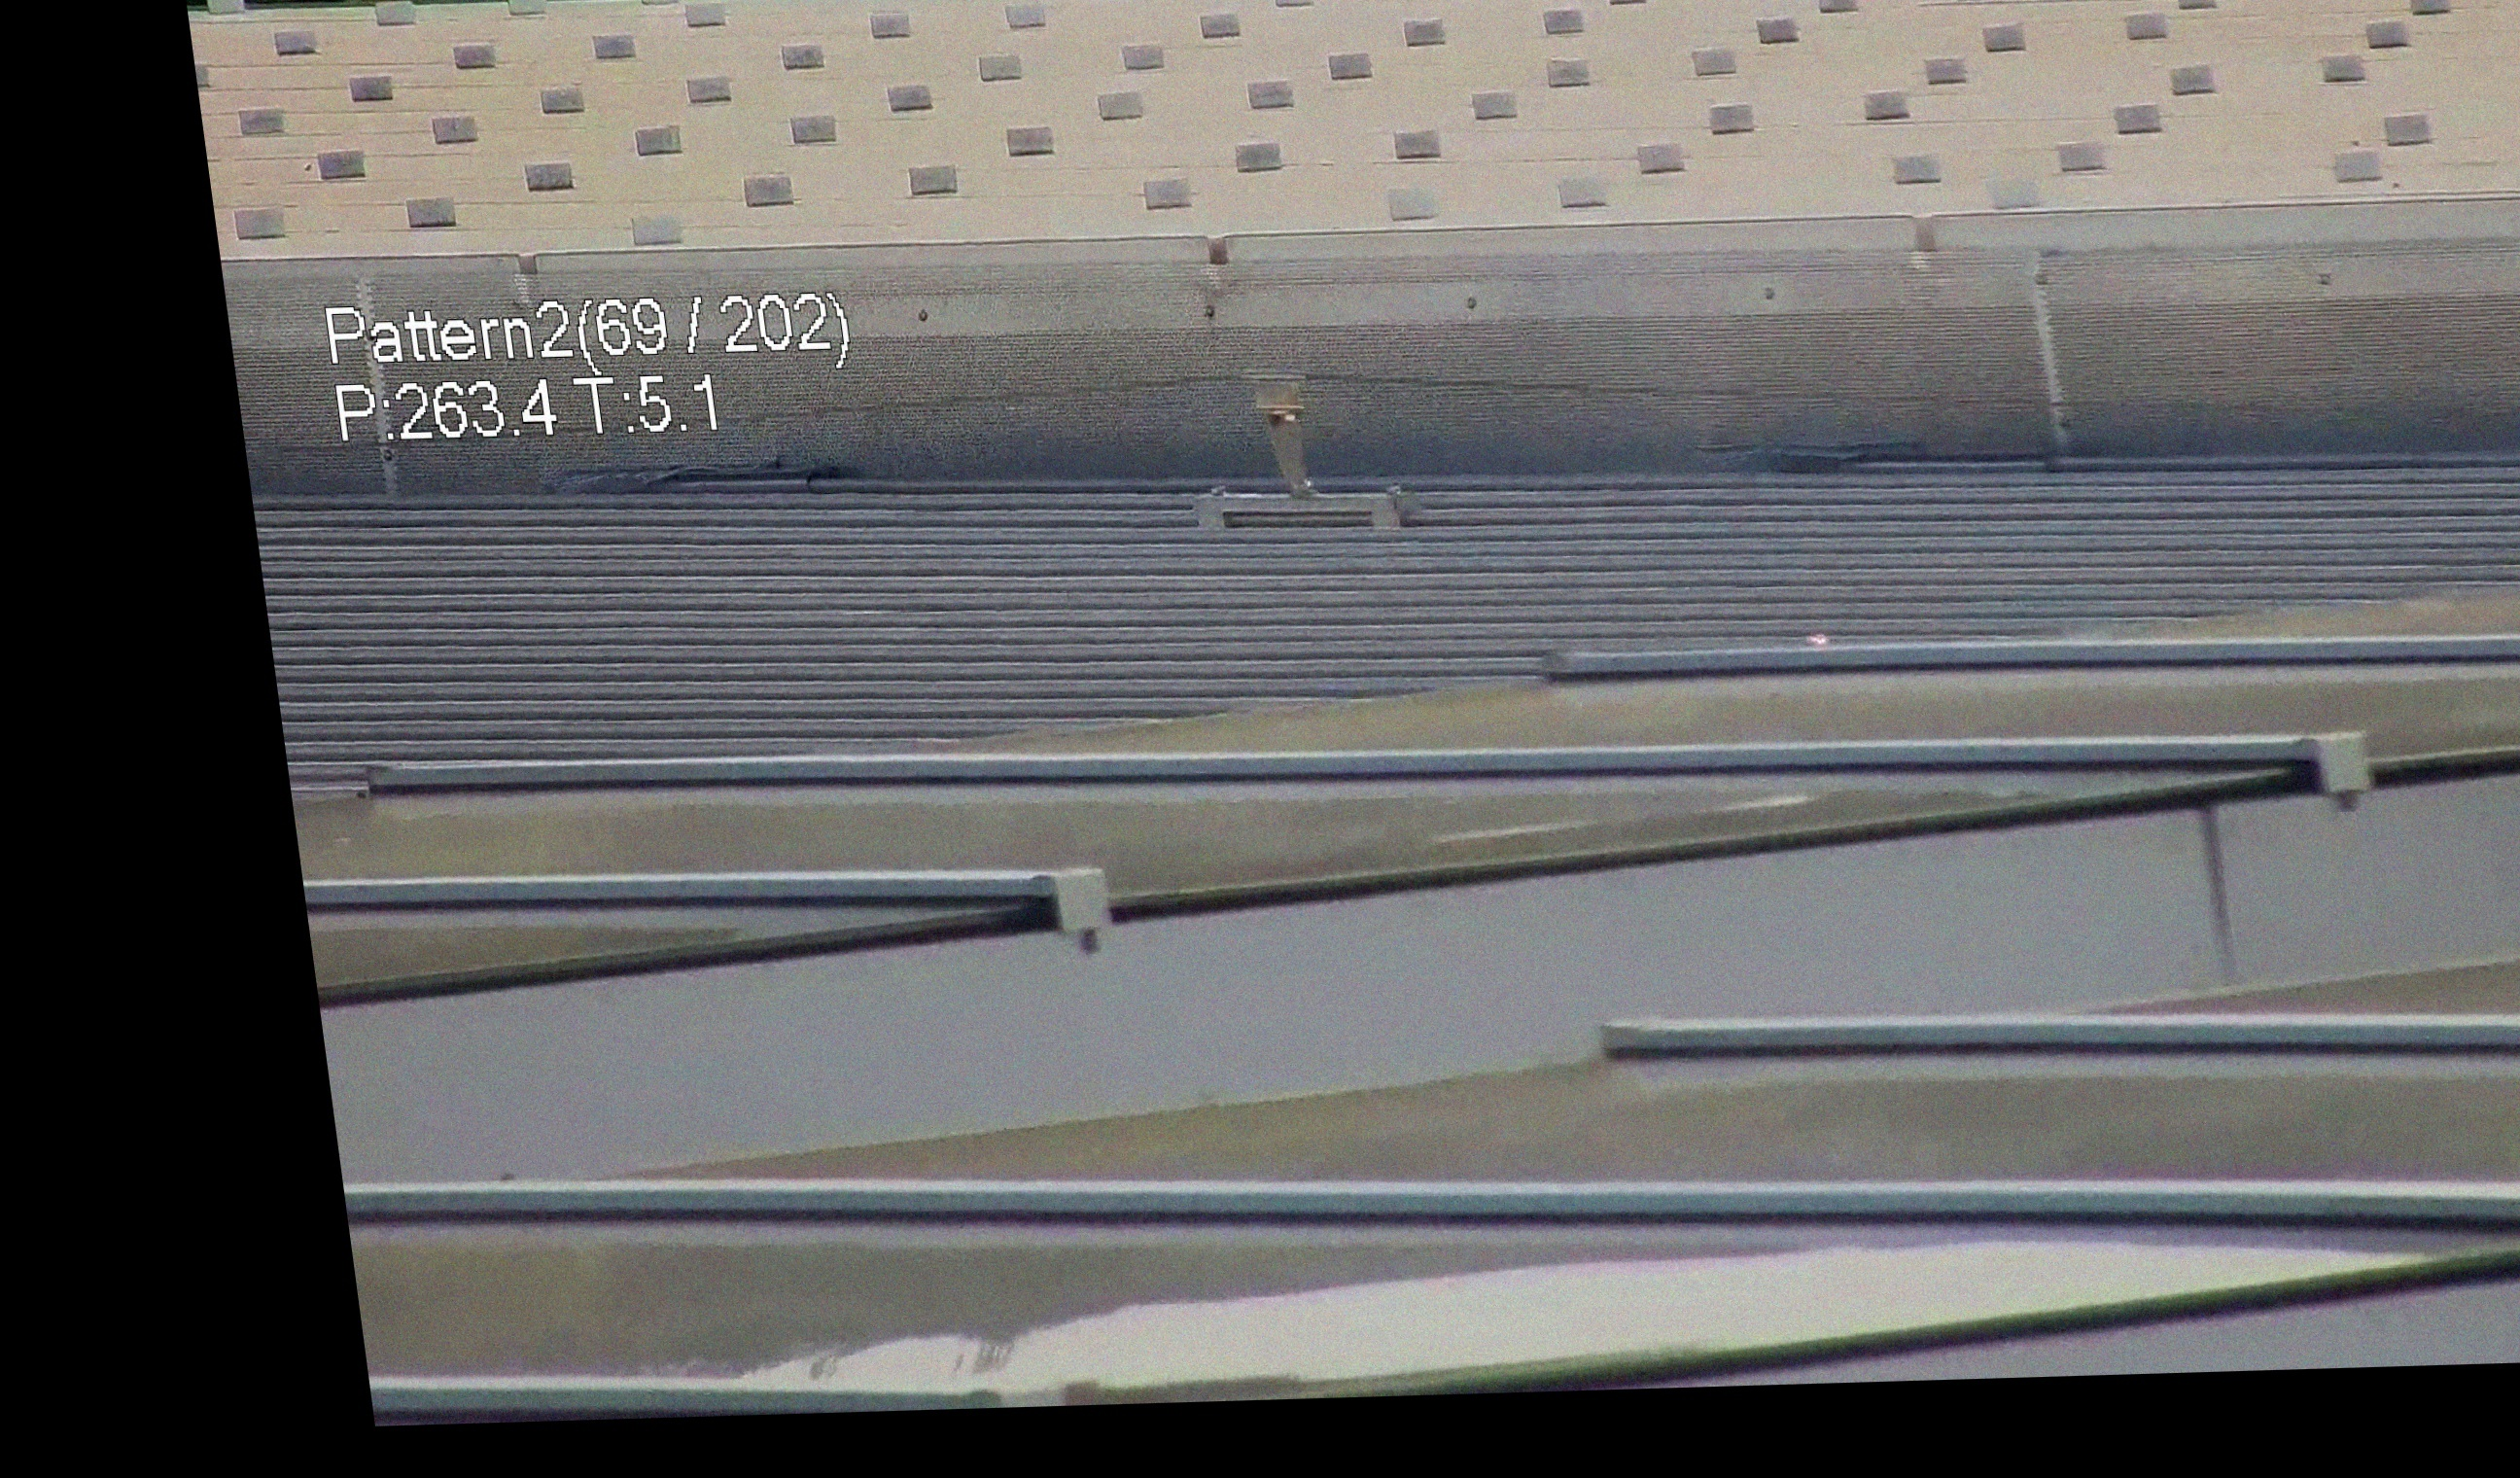Other: (1226, 375, 1331, 507)
